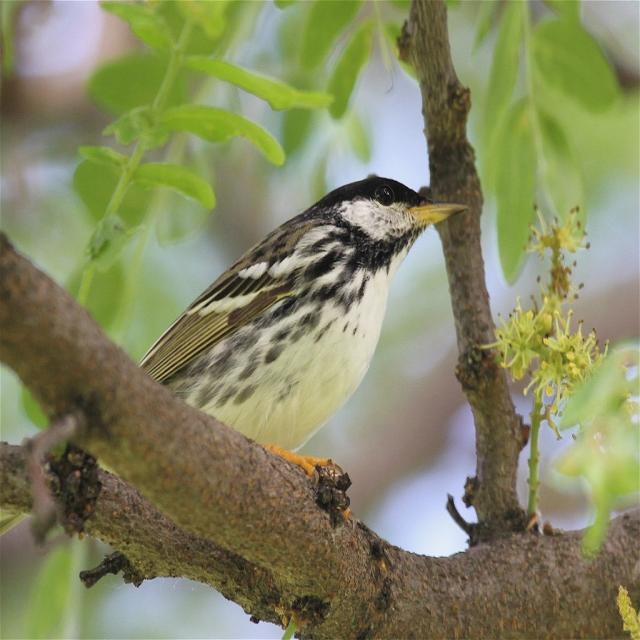bird: (85, 172, 468, 517)
